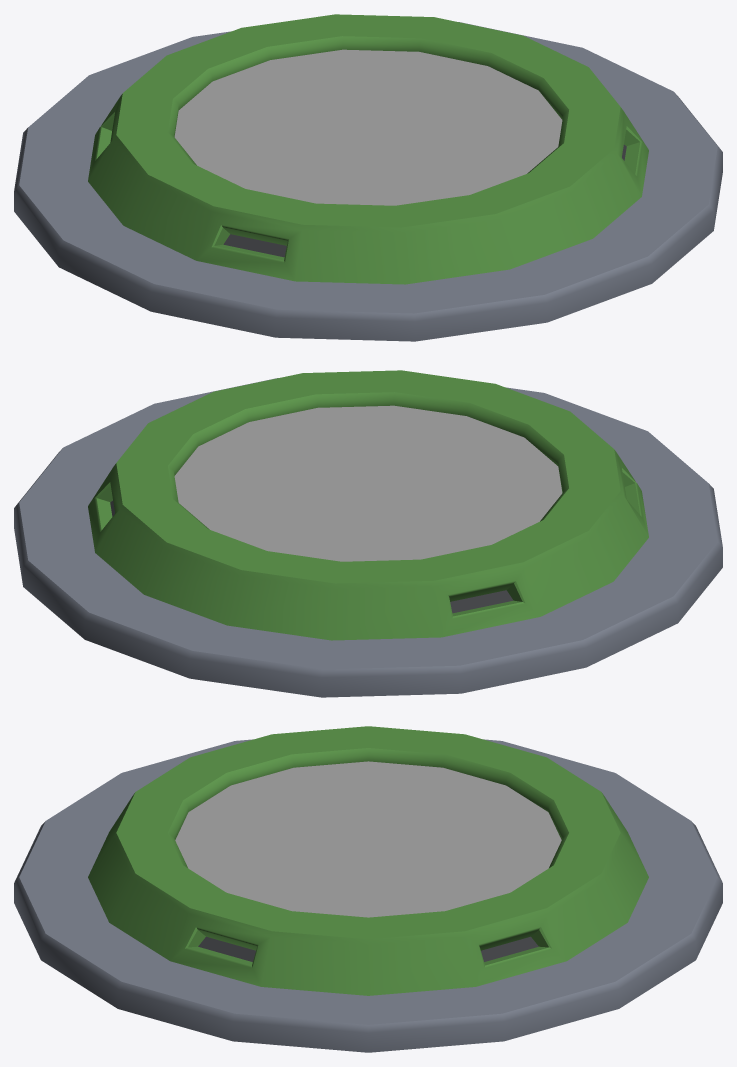
The model's file is Top_subs.fbx.
3 renders of one model, top to bottom at view 1: azimuth 30°, elevation 25°; view 2: azimuth 150°, elevation 25°; view 3: azimuth 270°, elevation 25°, orthographic.
Visible parts, largest first — view 1: Top_; view 2: Top_; view 3: Top_.
Part boxes in pixels (bbox=[...]): Top_: bbox=[14, 14, 722, 341]; Top_: bbox=[14, 370, 722, 697]; Top_: bbox=[14, 726, 722, 1052].
Bounding box in the file's own units: 10.06 × 1.1 × 10.06.
